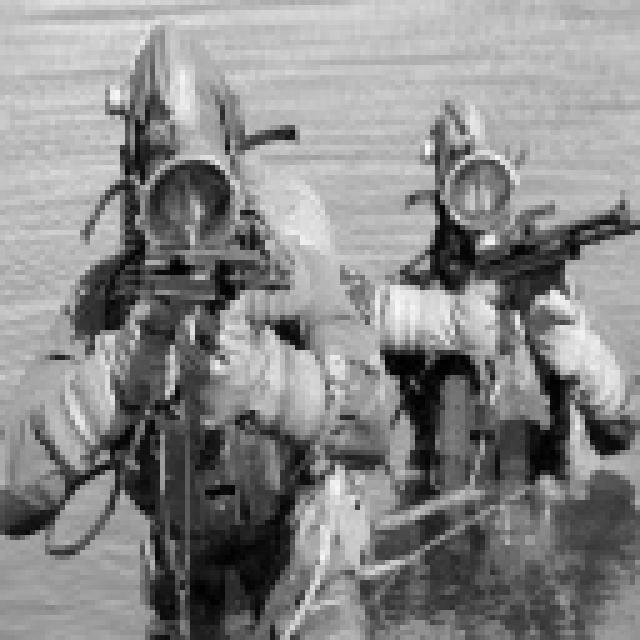Rifle: (0, 0, 299, 623), (385, 120, 640, 365)
